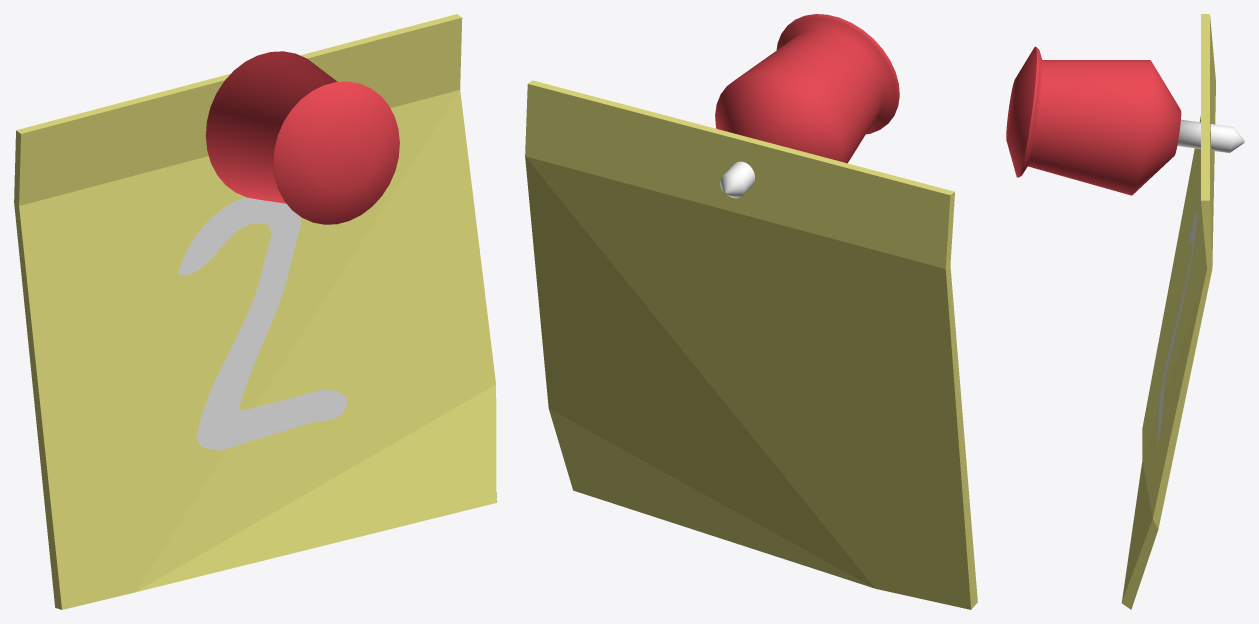
File: level2.fbx
3 renders of one model, left to right at view 1: azimuth 30°, elevation 25°; view 2: azimuth 150°, elevation 25°; view 3: azimuth 270°, elevation 25°, orthographic. The views are drawn at different scales.
Visible parts, largest first — view 1: SM_Prop_Note_04, pin.001, Text.001; view 2: SM_Prop_Note_04, pin.001; view 3: pin.001, SM_Prop_Note_04, Text.001.
Boxes of the visible parts, bbox=[...] form: SM_Prop_Note_04: bbox=[14, 14, 496, 609]; pin.001: bbox=[205, 51, 399, 224]; Text.001: bbox=[178, 197, 346, 450]; SM_Prop_Note_04: bbox=[525, 80, 977, 609]; pin.001: bbox=[715, 14, 899, 198]; pin.001: bbox=[1006, 46, 1244, 195]; SM_Prop_Note_04: bbox=[1121, 14, 1215, 609]; Text.001: bbox=[1157, 212, 1197, 446].
Bounding box in the file's own units: 103 × 114 × 52.33.
3 materials, 1 textured.
